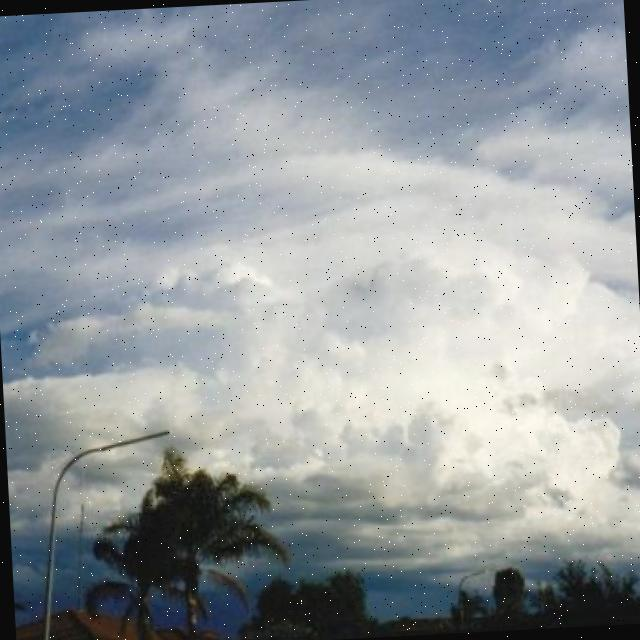Cs: (1, 34, 640, 419)
